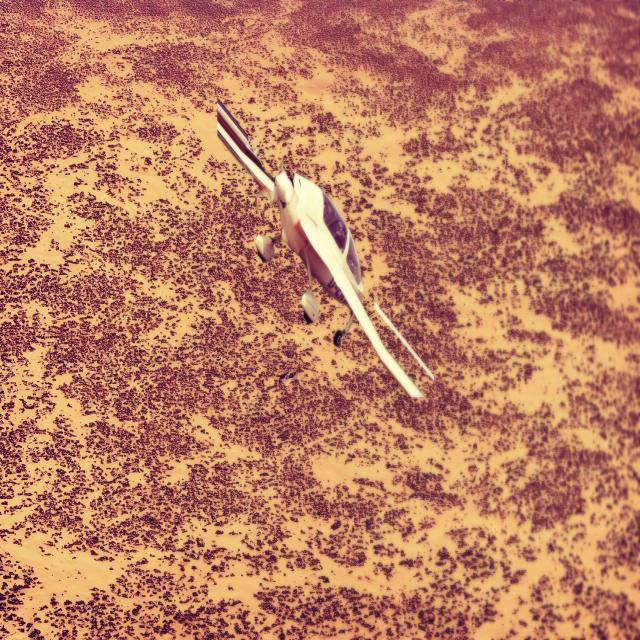airplane: (215, 98, 435, 401)
